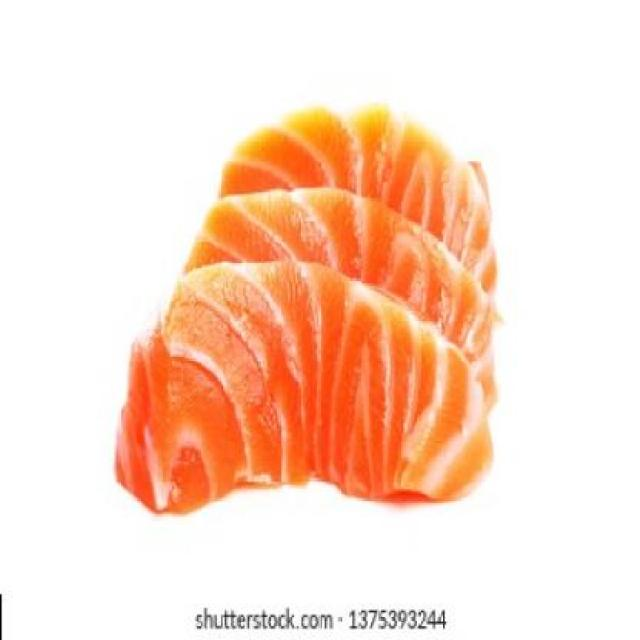salmon: (110, 251, 502, 525), (165, 180, 508, 465), (218, 94, 504, 327)
